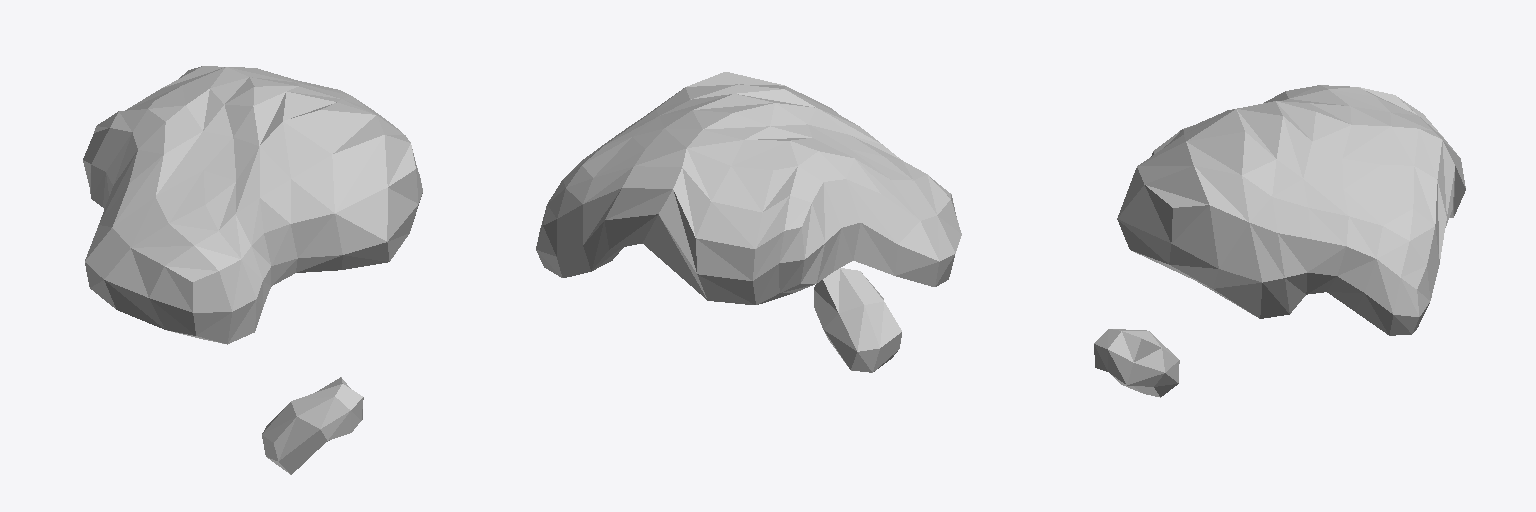
Rendered from Arbre Test 1 - Feuillage.obj.
3 renders of one model, left to right at view 1: azimuth 30°, elevation 25°; view 2: azimuth 150°, elevation 25°; view 3: azimuth 270°, elevation 25°, orthographic.
Parts seen in each view (by area): view 1: Feuillage; view 2: Feuillage; view 3: Feuillage.
Boxes of the visible parts, <box> form: Feuillage: <box>83,66,422,474</box>; Feuillage: <box>536,72,961,372</box>; Feuillage: <box>1094,85,1465,397</box>.
Bounding box in the file's own units: 28.76 × 24.94 × 27.05.